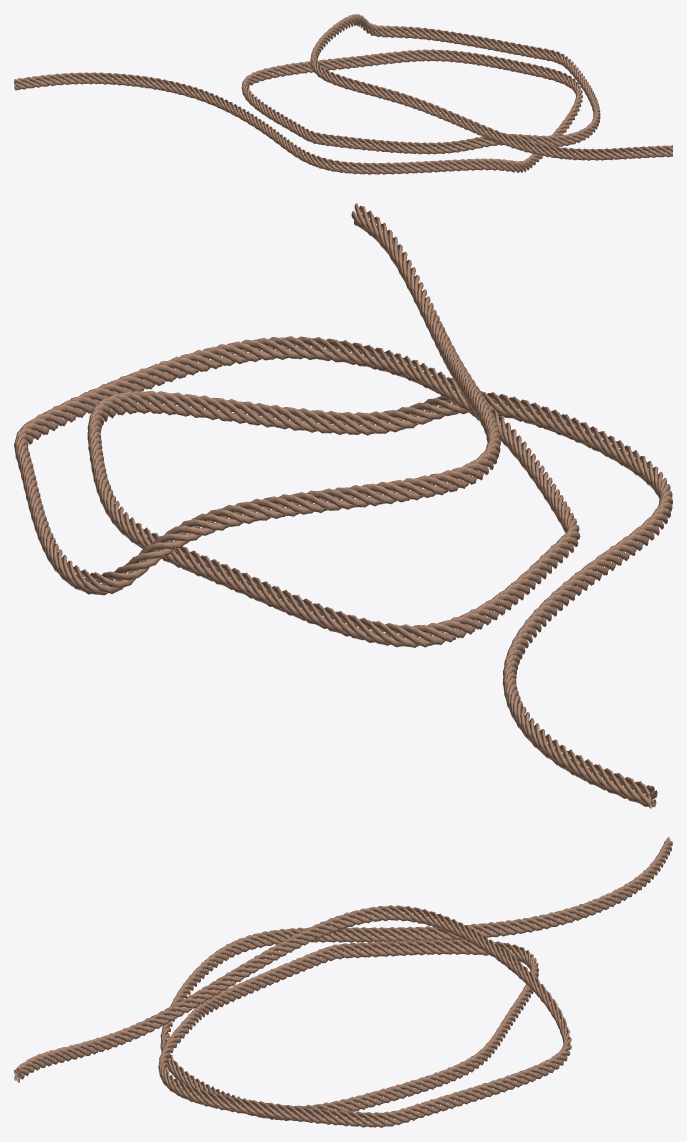
Rendered from rope_3d_model.fbx.
3 renders of one model, top to bottom at view 1: azimuth 30°, elevation 25°; view 2: azimuth 150°, elevation 25°; view 3: azimuth 270°, elevation 25°, orthographic. The views are drawn at different scales.
Visible parts, largest first — view 1: sweep2; view 2: sweep2; view 3: sweep2.
Part boxes in pixels (box(x1,y1,x2,y2)): sweep2: box(14, 14, 672, 174); sweep2: box(14, 203, 672, 808); sweep2: box(14, 837, 672, 1127).
Bounding box in the file's own units: 0.6013 × 0.1019 × 0.6033.
